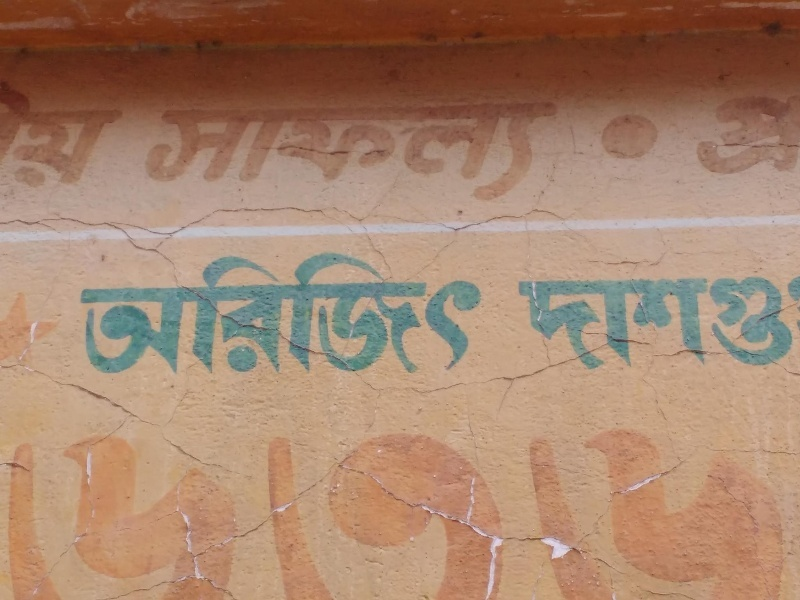text: (17, 426, 32, 597), (33, 426, 48, 597), (49, 426, 64, 597), (65, 426, 80, 597), (81, 426, 96, 597), (97, 426, 112, 597), (113, 426, 128, 597), (129, 426, 144, 597), (145, 426, 160, 597), (161, 426, 176, 597), (177, 426, 192, 597), (193, 426, 208, 597), (209, 426, 224, 597), (225, 426, 240, 597), (241, 426, 256, 597), (257, 426, 272, 597), (273, 426, 288, 597), (289, 426, 304, 597), (305, 426, 320, 597), (321, 426, 336, 597), (337, 426, 352, 597), (353, 426, 368, 597), (369, 426, 384, 597), (385, 426, 400, 597), (401, 426, 416, 597), (417, 426, 432, 597), (433, 426, 448, 597), (449, 426, 464, 597), (465, 426, 480, 597), (481, 426, 496, 597), (497, 426, 512, 597), (513, 426, 528, 597), (529, 426, 544, 597), (545, 426, 560, 597), (561, 426, 576, 597), (577, 426, 592, 597), (593, 426, 608, 597), (609, 426, 624, 597), (625, 426, 640, 597), (641, 426, 656, 597), (657, 426, 672, 597), (673, 426, 688, 597), (689, 426, 704, 597), (705, 426, 720, 597), (721, 426, 736, 597), (737, 426, 752, 597), (753, 426, 768, 597), (769, 426, 784, 597), (81, 250, 96, 393), (97, 250, 112, 393), (113, 250, 128, 393), (129, 250, 144, 393), (145, 250, 160, 393), (161, 250, 176, 393), (177, 250, 192, 393), (193, 250, 208, 393), (209, 250, 224, 393), (225, 250, 240, 393), (241, 250, 256, 393), (257, 250, 272, 393), (273, 250, 288, 393), (289, 250, 304, 393), (305, 250, 320, 393), (321, 250, 336, 393), (337, 250, 352, 393), (353, 250, 368, 393), (369, 250, 384, 393), (385, 250, 400, 393), (401, 250, 416, 393), (417, 250, 432, 393), (433, 250, 448, 393), (449, 250, 464, 393), (465, 250, 480, 393), (4, 426, 16, 597), (481, 250, 494, 393), (145, 92, 160, 209), (161, 92, 176, 209), (177, 92, 192, 209), (193, 92, 208, 209), (209, 92, 224, 209), (225, 92, 240, 209), (241, 92, 256, 209), (257, 92, 272, 209), (273, 92, 288, 209), (289, 92, 304, 209), (305, 92, 320, 209), (321, 92, 336, 209), (337, 92, 352, 209), (353, 92, 368, 209), (369, 92, 384, 209), (385, 92, 400, 209), (401, 92, 416, 209), (417, 92, 432, 209), (433, 92, 448, 209), (449, 92, 464, 209), (465, 92, 480, 209), (481, 92, 496, 209), (497, 92, 512, 209), (513, 92, 528, 209), (529, 92, 544, 209), (545, 92, 560, 209), (17, 80, 32, 197), (33, 80, 48, 197), (49, 80, 64, 197), (65, 80, 80, 197), (81, 80, 96, 197), (97, 80, 112, 197), (529, 262, 544, 376), (545, 262, 560, 376), (561, 262, 576, 376), (577, 262, 592, 376), (593, 262, 608, 376), (609, 262, 624, 376), (625, 262, 640, 376), (641, 262, 656, 376), (657, 262, 672, 376), (673, 262, 688, 376), (689, 262, 704, 376), (705, 262, 720, 376), (721, 262, 736, 376), (737, 262, 752, 376), (753, 262, 768, 376), (769, 262, 784, 376), (785, 262, 800, 376), (514, 262, 528, 376), (785, 426, 794, 597), (4, 80, 16, 197), (113, 80, 124, 197), (705, 95, 720, 180), (721, 95, 736, 180), (737, 95, 752, 180), (753, 95, 768, 180), (769, 95, 784, 180), (785, 95, 800, 180), (561, 92, 563, 209), (79, 250, 80, 393)
